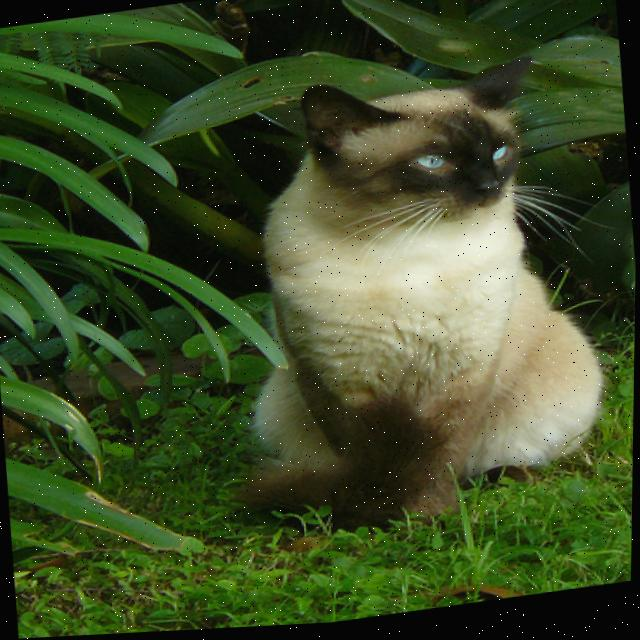Siamese: (201, 44, 625, 555)
